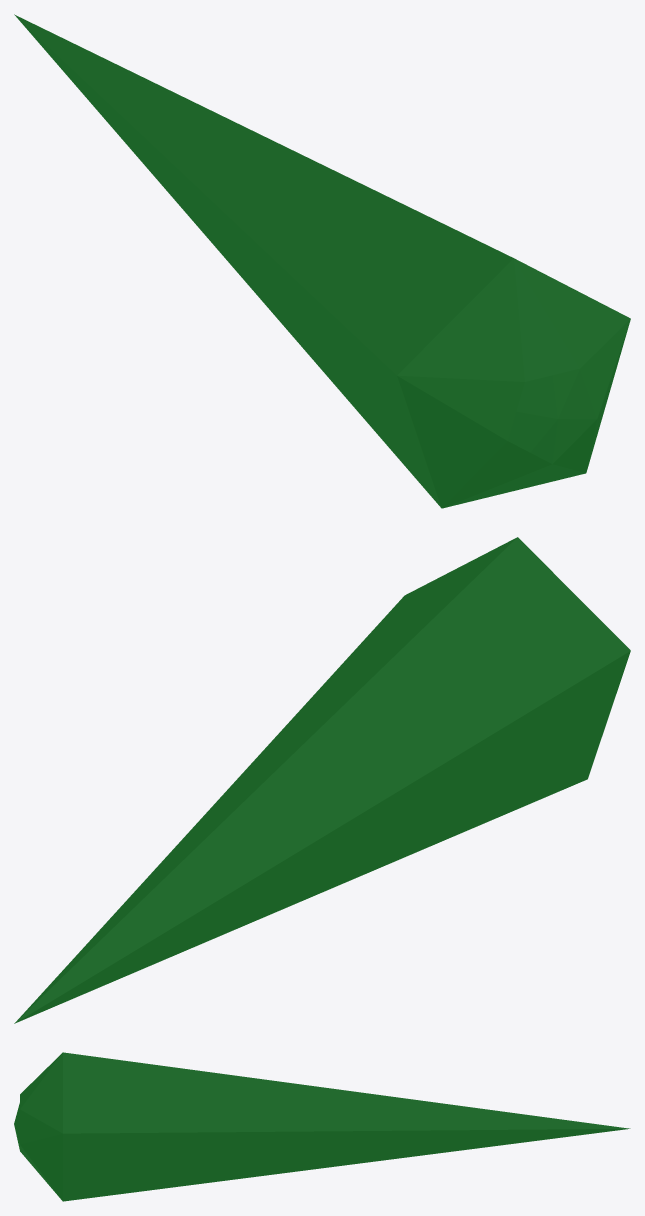
The model's file is AcidShit.fbx.
3 renders of one model, top to bottom at view 1: azimuth 30°, elevation 25°; view 2: azimuth 150°, elevation 25°; view 3: azimuth 270°, elevation 25°, orthographic. The views are drawn at different scales.
Visible parts, largest first — view 1: Cylinder; view 2: Cylinder; view 3: Cylinder.
Part boxes in pixels (x1,y1,x2,y2): Cylinder: (14, 14, 630, 508); Cylinder: (14, 537, 630, 1023); Cylinder: (14, 1052, 630, 1201).
Bounding box in the file's own units: 0.5479 × 0.5211 × 2.25.
